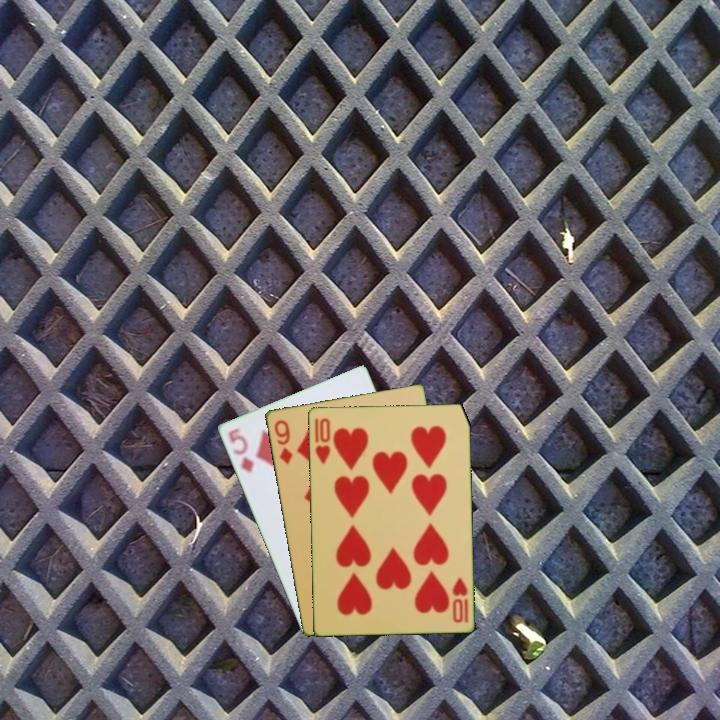10h: (448, 573, 471, 625), (311, 414, 333, 467)
5d: (224, 424, 257, 475)
9d: (270, 416, 295, 467)
